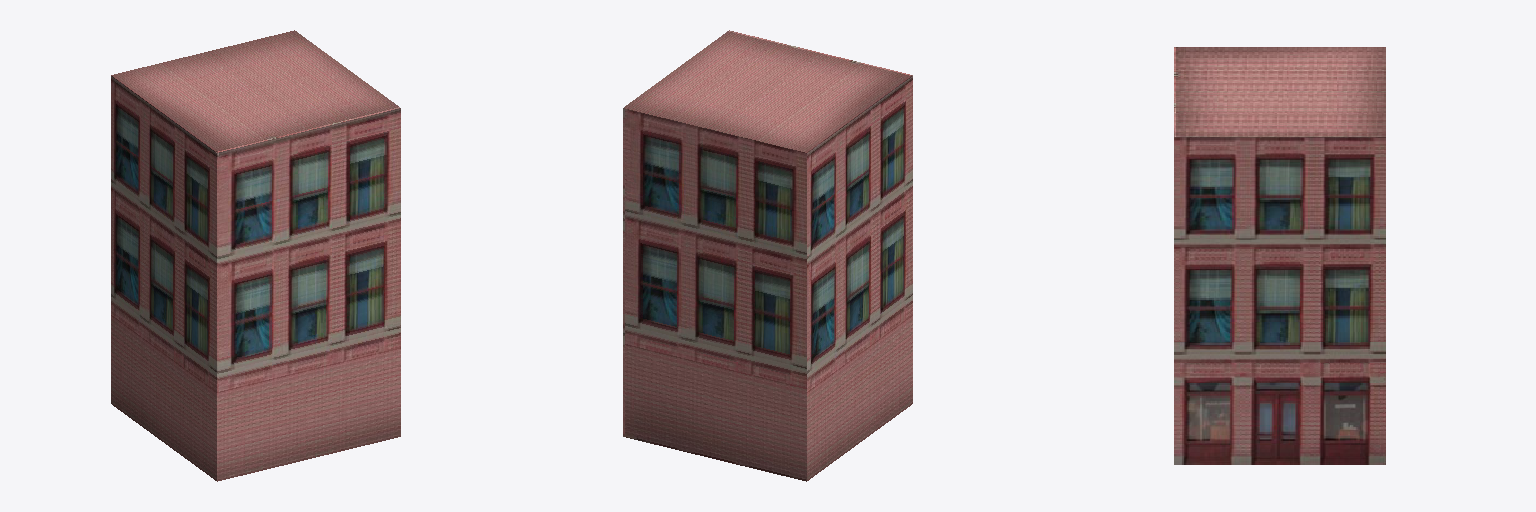
The picture shows the model from 3 angles: view 1: azimuth 30°, elevation 25°; view 2: azimuth 150°, elevation 25°; view 3: azimuth 270°, elevation 25°; orthographic projection.
Visible parts, largest first — view 1: Cube; view 2: Cube; view 3: Cube.
Boxes of the visible parts, x1=… form: Cube: x1=111, y1=30, x2=400, y2=481; Cube: x1=623, y1=30, x2=912, y2=481; Cube: x1=1174, y1=47, x2=1385, y2=464.
Bounding box in the file's own units: 8.46 × 14.44 × 8.46.
Materials: 1 (1 with a texture image).